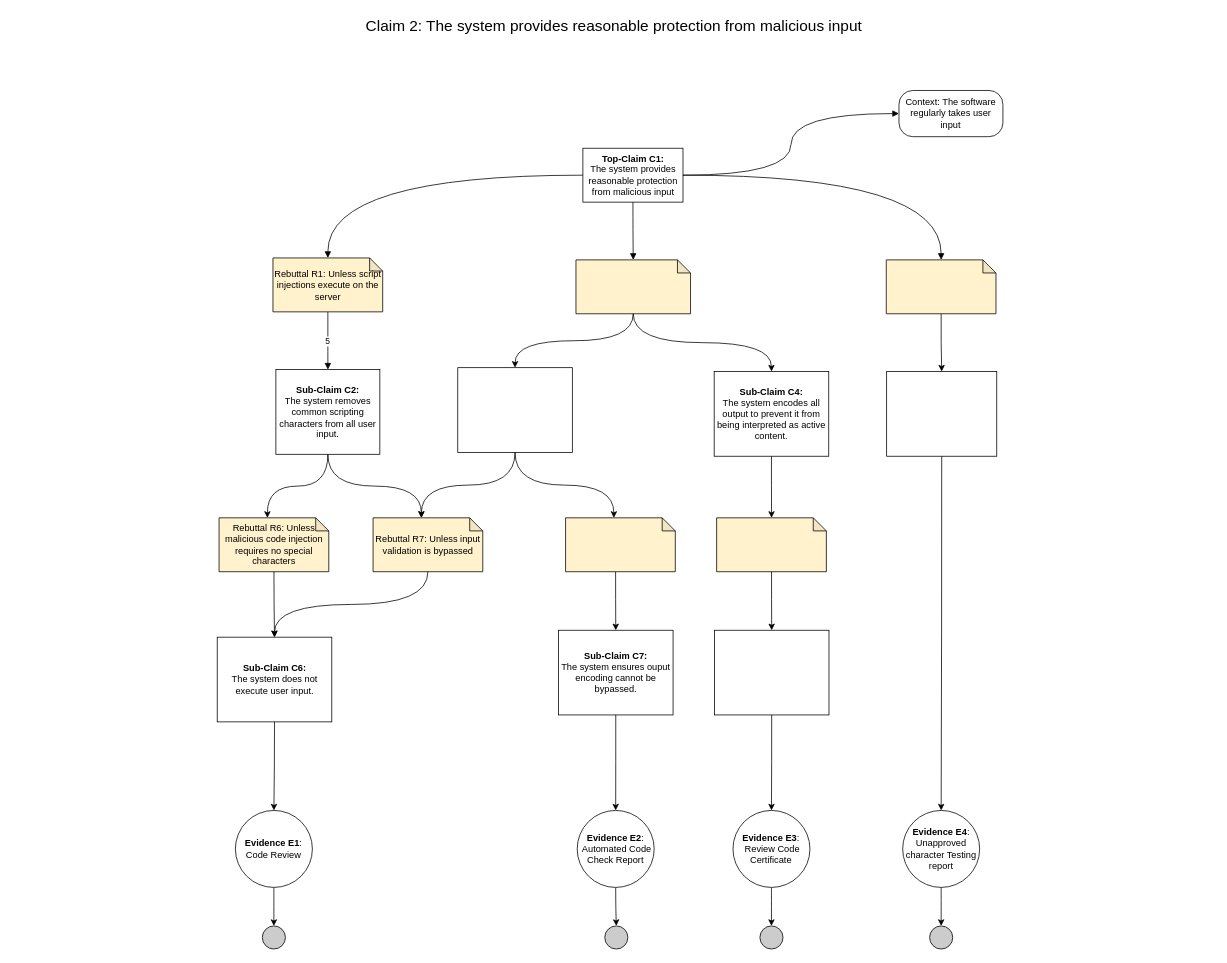
Some shapes in this 1227 by 963 pixel diagram are drawn without their labels. Here are the shapes that lost their labels. From the top down, the centre of each, then its label:
point (633, 286): Rebuttal R2: Unless XSS scripting can occur
point (941, 286): Rebuttal R3: Unless malformed user input crashes the system
point (514, 409): Sub-Claim C3: The system filters user input for common XSS characters.
point (941, 413): Sub-Claim C5: The user input mechanism filters based on whitelisted characters
point (620, 544): Rebuttal R8: Unless output encoding is bypassed
point (771, 544): Rebuttal R9: Unless the source code was tampered with
point (771, 672): Sub-Claim C8: The software is signed when released.
